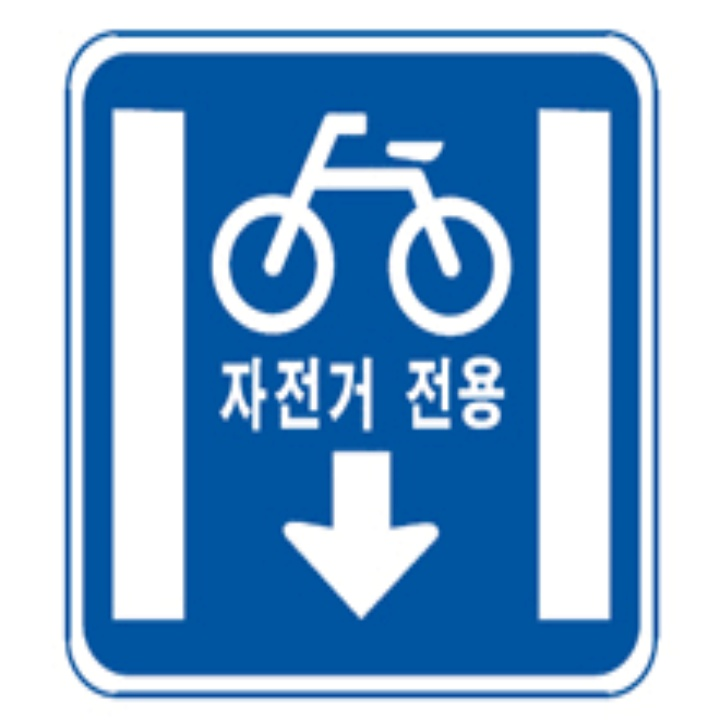bicycle: (211, 89, 517, 395)
